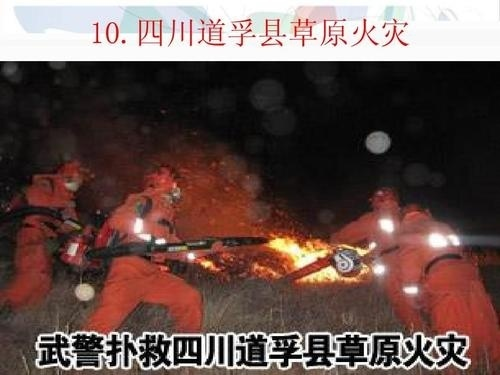fire: (261, 225, 374, 284)
